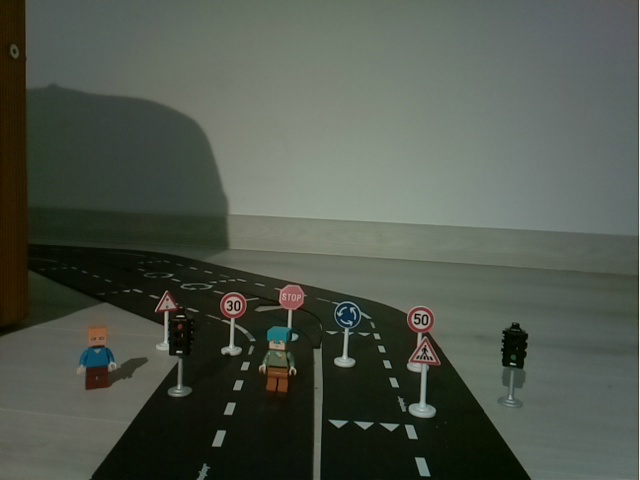green light: (496, 320, 537, 413)
limit 30: (215, 290, 246, 359)
limit 50: (406, 303, 436, 336)
pedestrian sign: (411, 338, 442, 422)
person: (74, 324, 121, 393), (260, 326, 299, 396)
red light: (169, 318, 194, 400)
round: (330, 299, 361, 369)
stop: (274, 280, 309, 325)
traffic light sign: (154, 289, 178, 315)
